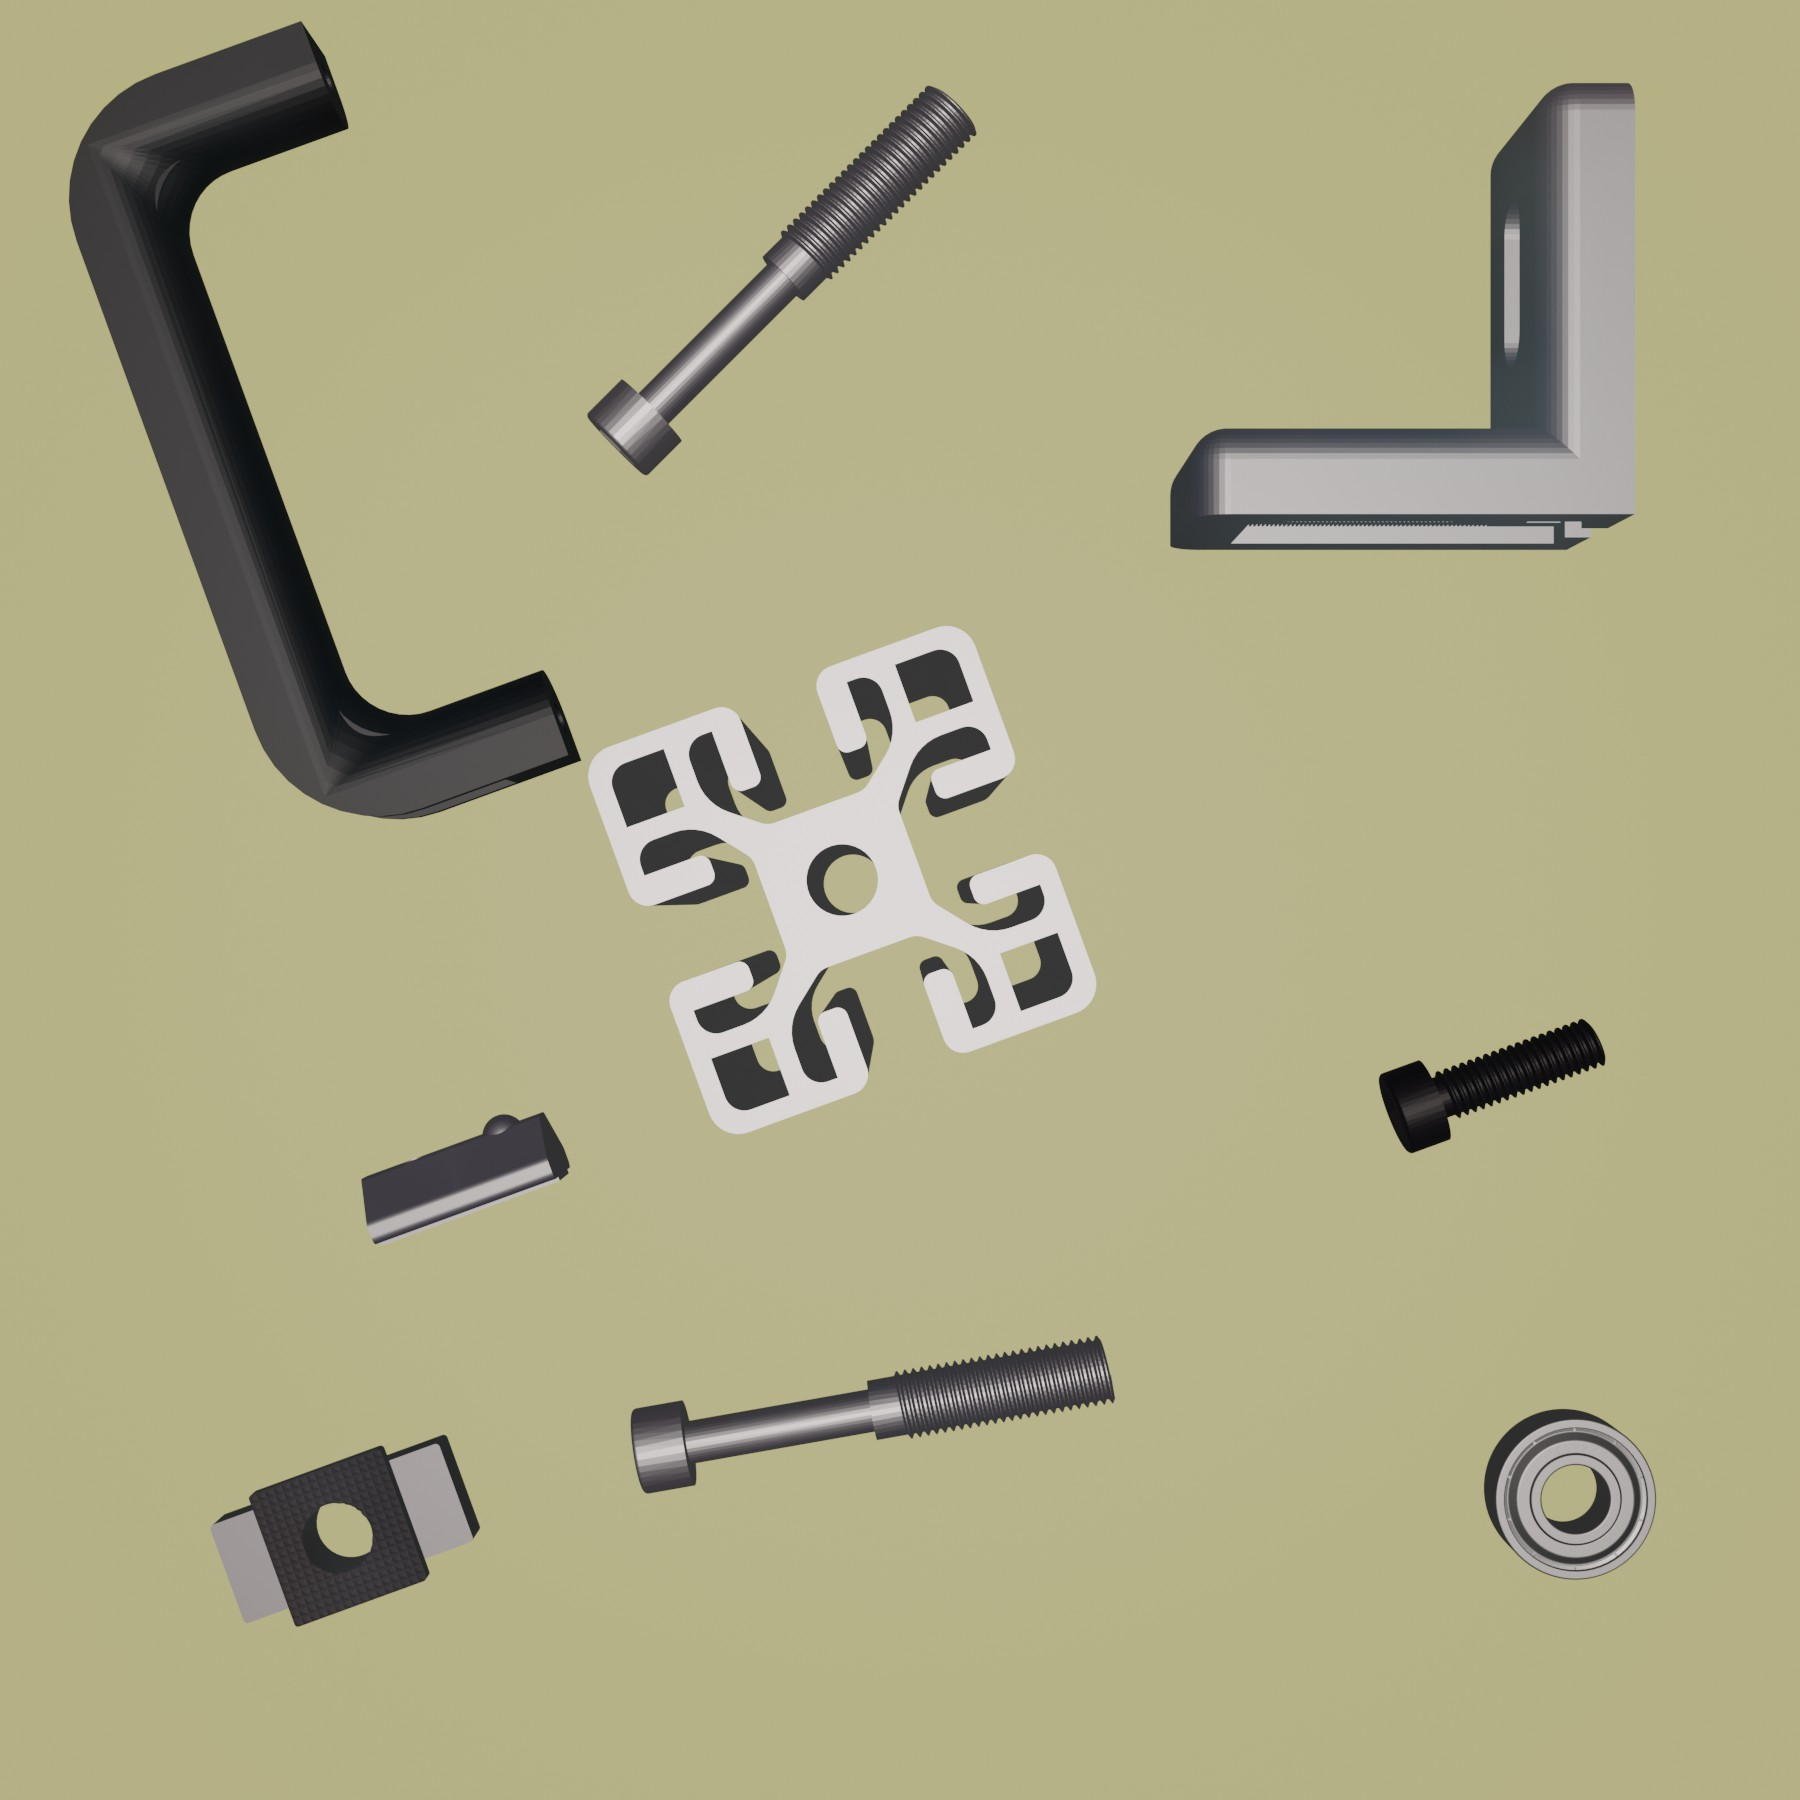Aluminium Extension: (585, 621, 1101, 1139)
Ball Bearing: (1479, 1404, 1662, 1581)
Multiwinkel: (1164, 74, 1643, 557)
Pull Handle: (68, 16, 585, 819)
Shoulder Socket Head Cap Screw: (582, 81, 977, 480), (630, 1332, 1119, 1495)
Socket Head Cap Screw: (1375, 1012, 1609, 1157)
T Nut Square: (209, 1427, 485, 1630)
T Spring Nut: (359, 1108, 575, 1246)
